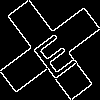E: (25, 25, 79, 81)
